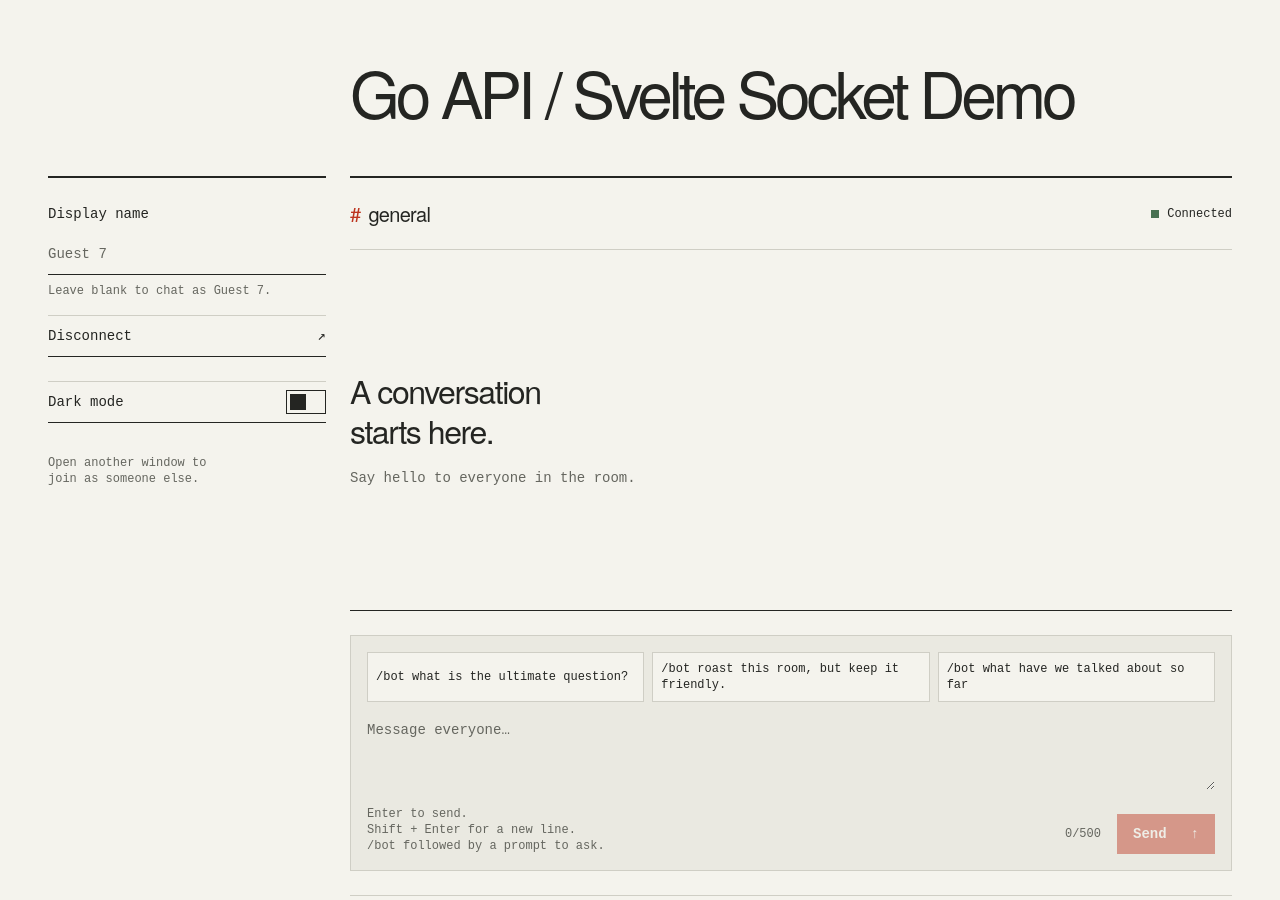
shared chatroom › sends a message and displays it only after the shared server echo
In the field with id "display-name": (187, 254) [48, 234, 326, 275], type " Ada "
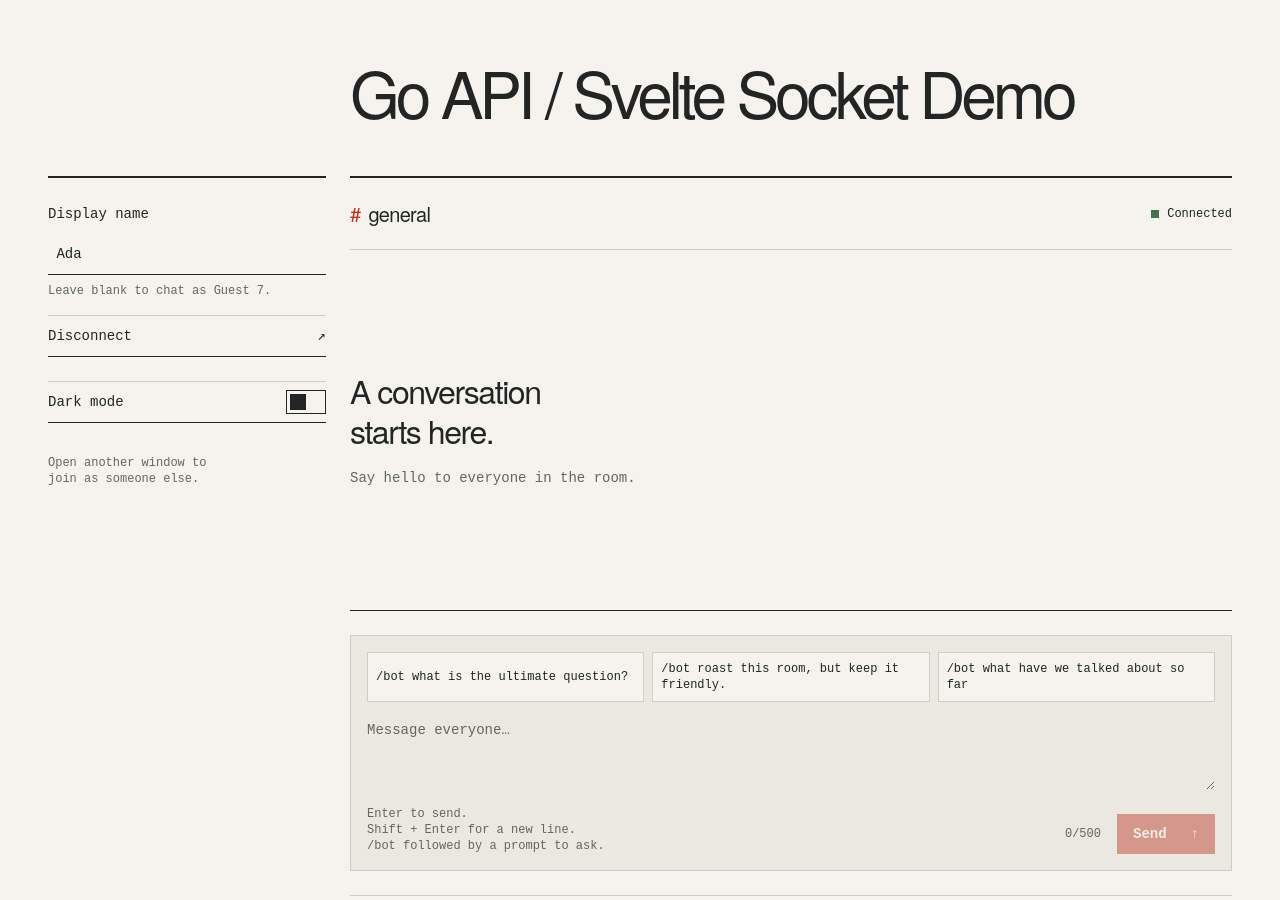
In the text box with placeholder "Message everyone…": (791, 754) [367, 718, 1215, 790], type " Hello everyone! "
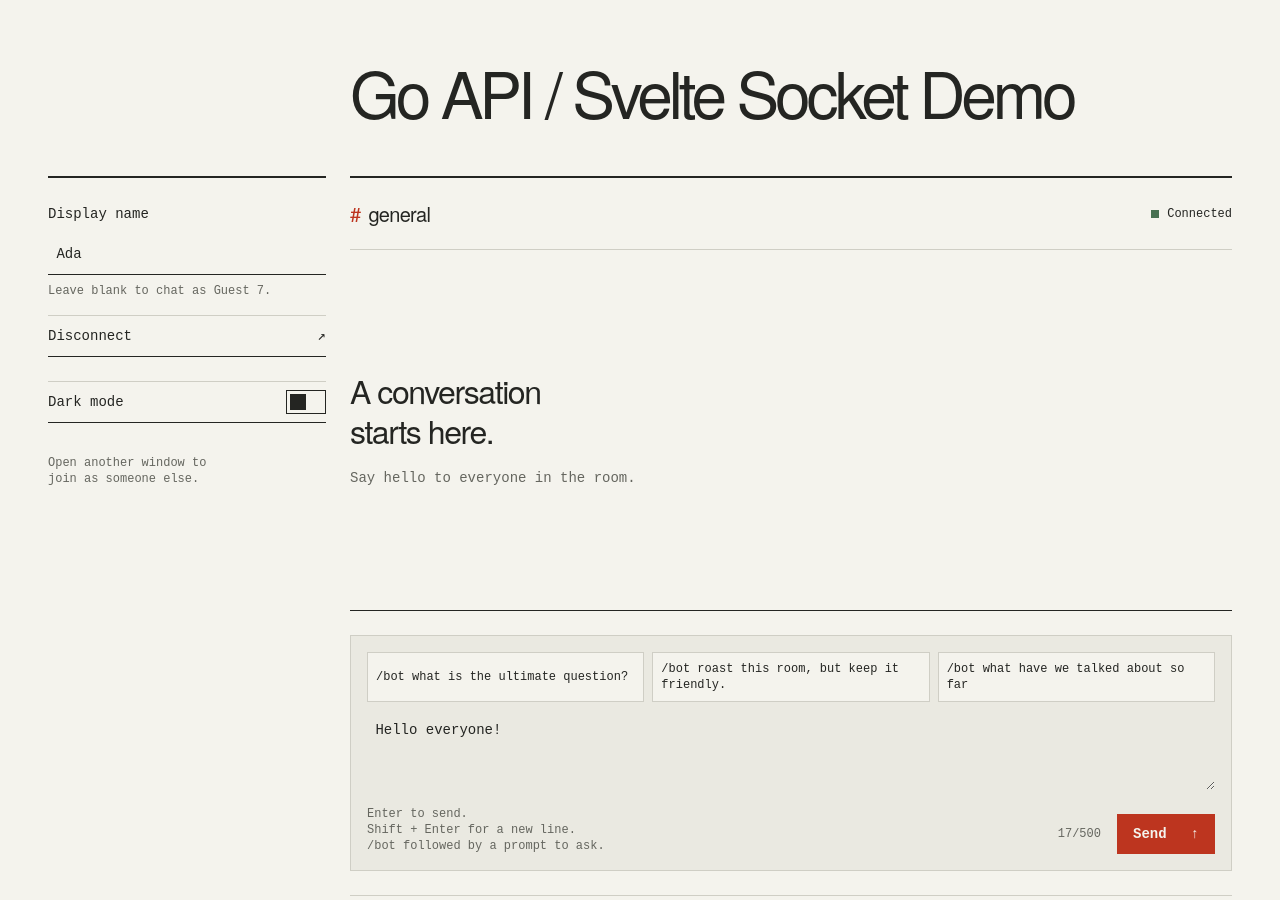
Submit the form, box [350, 635, 1232, 871]
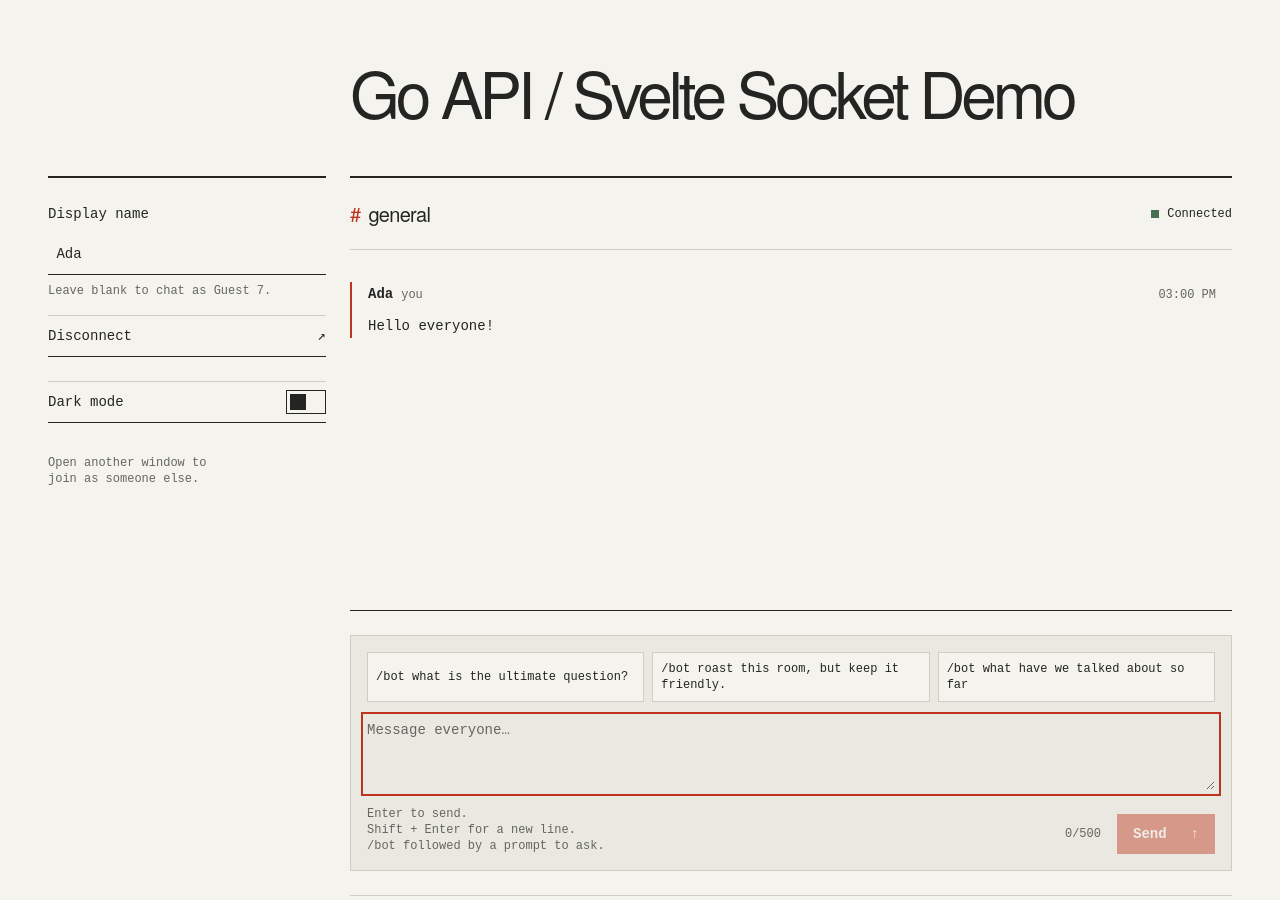
Expected: the text box with placeholder "Message everyone…" is empty, [367, 718, 1215, 790]
Expected: the element with class "message-bubble" reads "Hello everyone!", [368, 318, 494, 334]
Expected: the text with class "you-label" reads "you", [401, 288, 423, 302]
